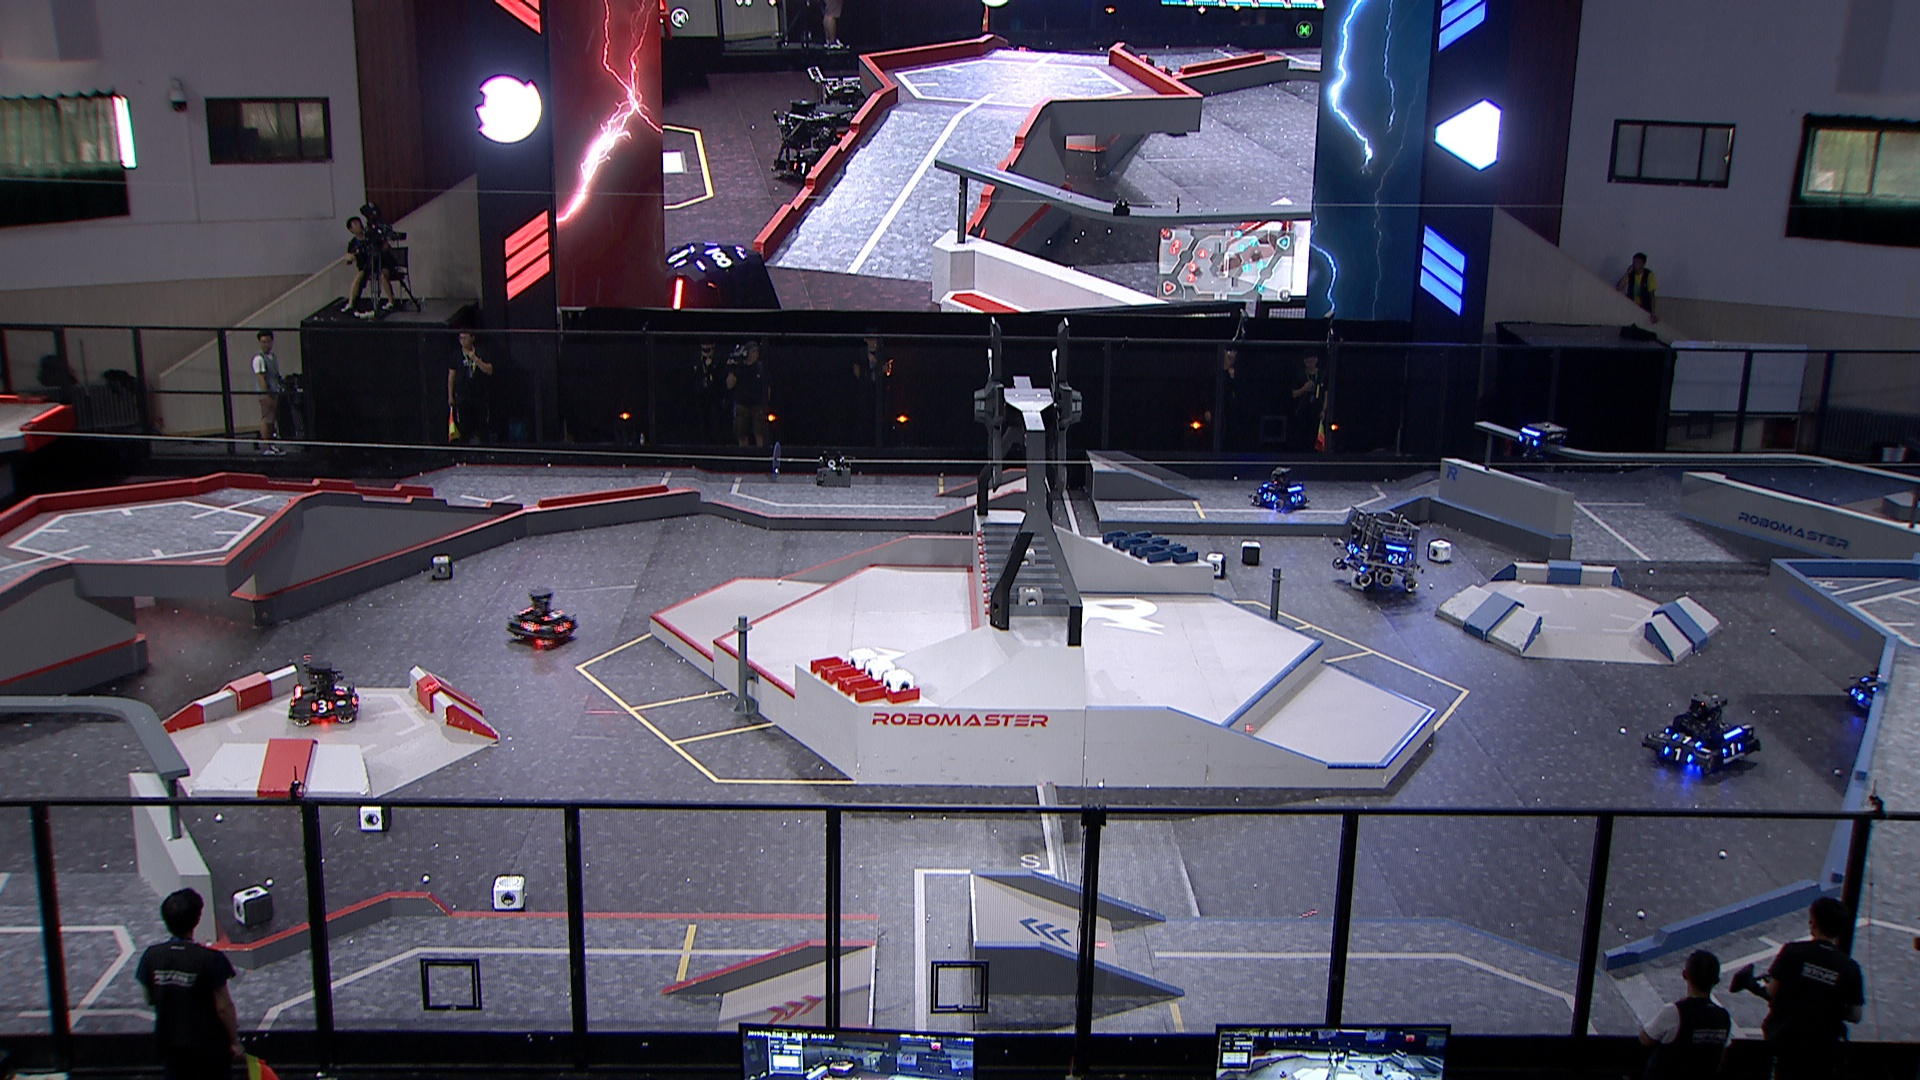armor: (1659, 746, 1695, 765), (310, 699, 338, 716), (1669, 733, 1705, 746), (520, 618, 542, 636), (1859, 674, 1879, 692), (1847, 687, 1869, 704), (1516, 433, 1539, 448), (1722, 742, 1745, 757), (542, 609, 564, 622), (553, 622, 574, 636), (332, 683, 351, 698), (1385, 553, 1406, 564), (1261, 491, 1276, 505), (1346, 542, 1360, 555), (1290, 495, 1302, 504)
car: (1640, 692, 1760, 779), (1333, 502, 1425, 597), (282, 659, 361, 727), (508, 588, 583, 651), (1841, 657, 1913, 717), (1247, 465, 1313, 516)
ignore: (665, 243, 782, 314), (769, 98, 856, 186), (806, 65, 866, 142)
watcher: (1513, 419, 1569, 472)
